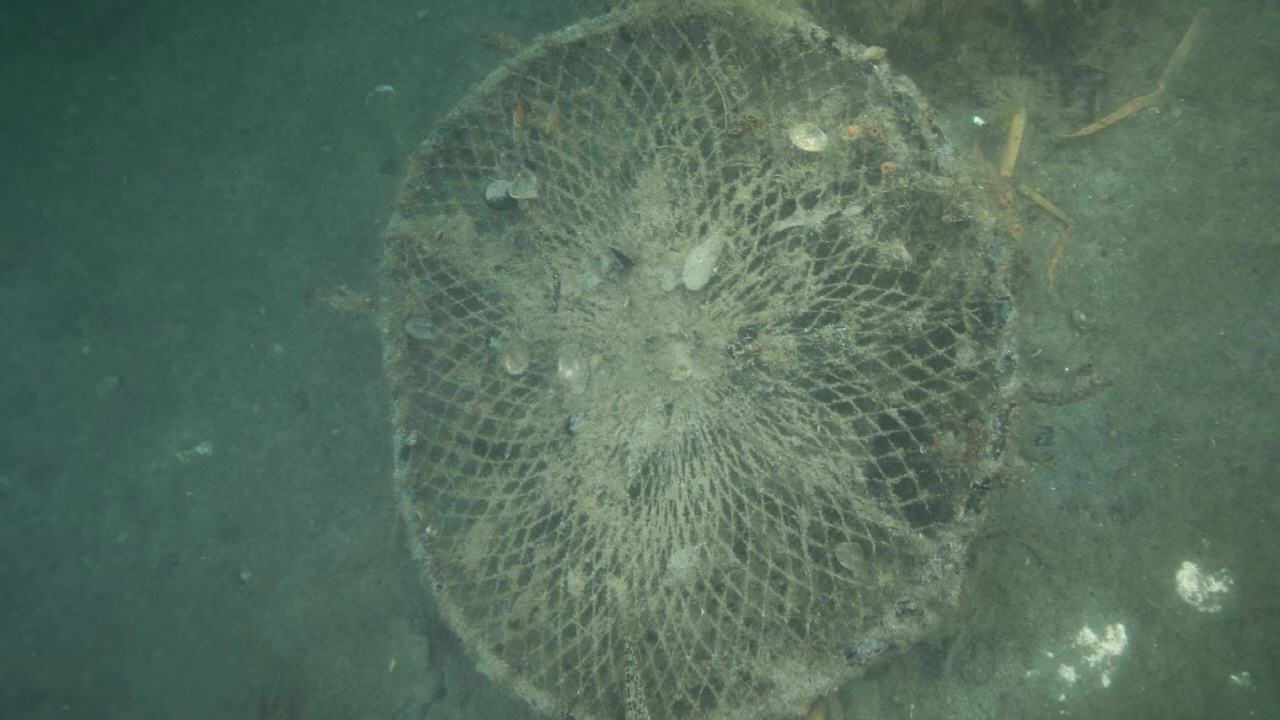circular fish trap: (377, 0, 1015, 720)
